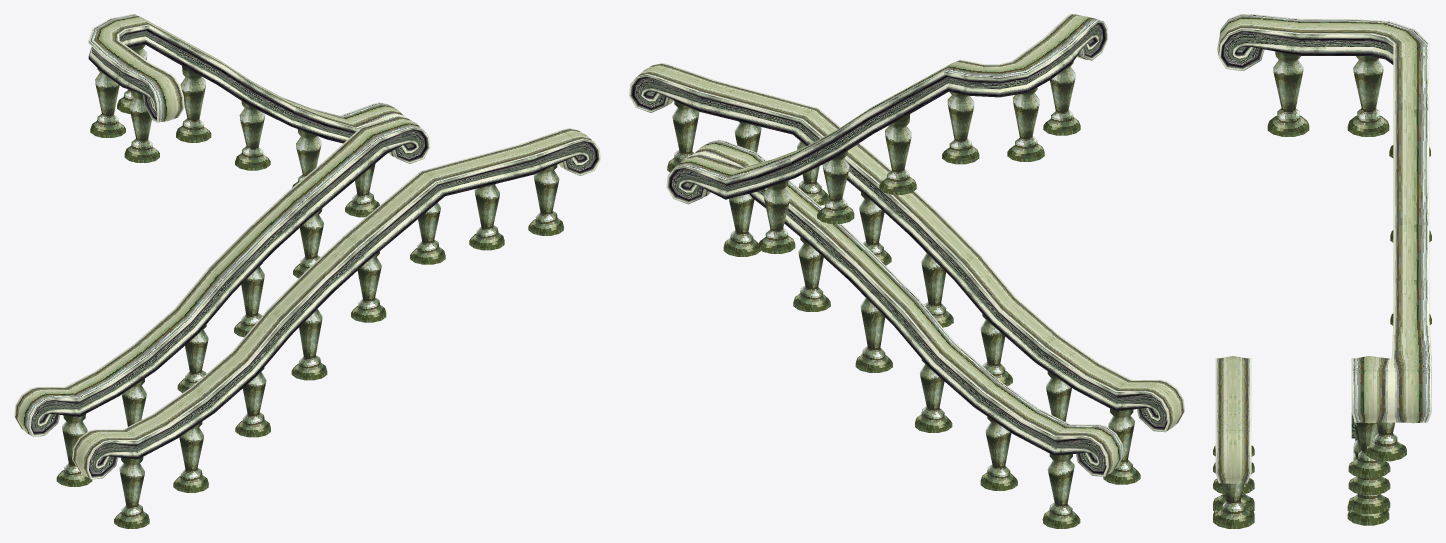
Rendered from a-stai-1.glb.
3 renders of one model, left to right at view 1: azimuth 30°, elevation 25°; view 2: azimuth 150°, elevation 25°; view 3: azimuth 270°, elevation 25°, orthographic. The views are drawn at different scales.
Parts seen in each view (by area): view 1: a_stai_1; view 2: a_stai_1; view 3: a_stai_1.
Part boxes in pixels (x1=…): a_stai_1: x1=14, y1=14, x2=600, y2=528; a_stai_1: x1=629, y1=14, x2=1184, y2=528; a_stai_1: x1=1213, y1=14, x2=1431, y2=528.
Size of the model in its own units: 871 by 697 by 273.
Materials: 3 (3 with a texture image).
